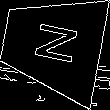N_W: (26, 21, 79, 70)
